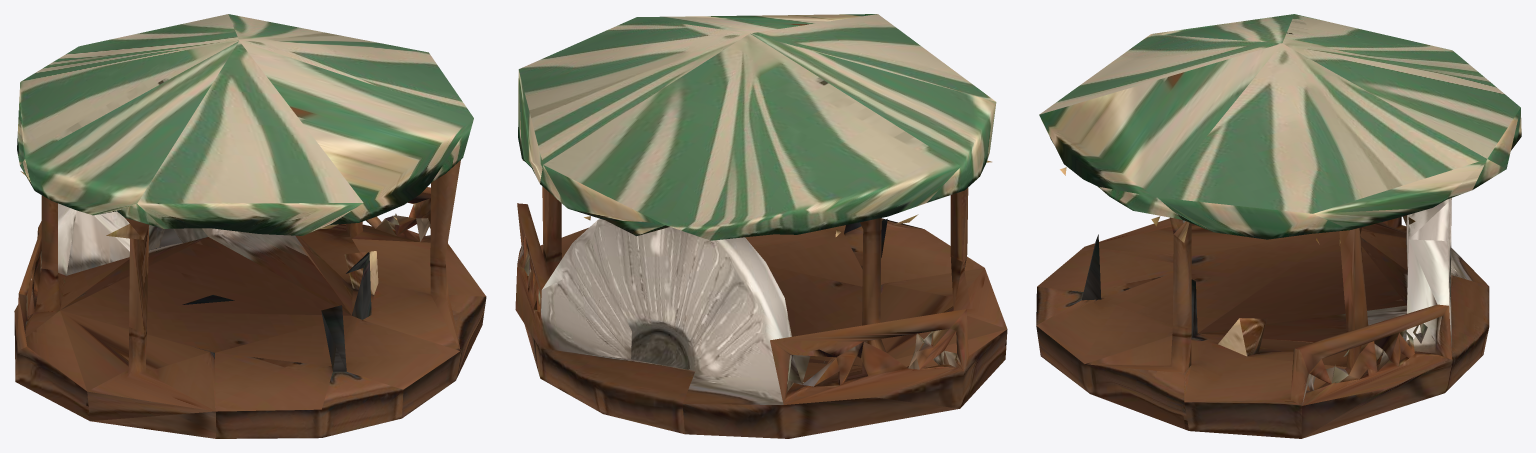
The model's file is hhb-bandstand.glb.
The picture shows the model from 3 angles, left to right: view 1: azimuth 30°, elevation 25°; view 2: azimuth 150°, elevation 25°; view 3: azimuth 270°, elevation 25°; orthographic projection. The views are drawn at different scales.
Visible parts, largest first — view 1: SM_hhb-bandstand; view 2: SM_hhb-bandstand; view 3: SM_hhb-bandstand.
Part boxes in pixels (left/top/right/bottom): SM_hhb-bandstand: left=14, top=14, right=486, bottom=438; SM_hhb-bandstand: left=515, top=14, right=1007, bottom=438; SM_hhb-bandstand: left=1036, top=14, right=1521, bottom=438.
Bounding box in the file's own units: 6 × 4 × 6.
1 material, 1 textured.
